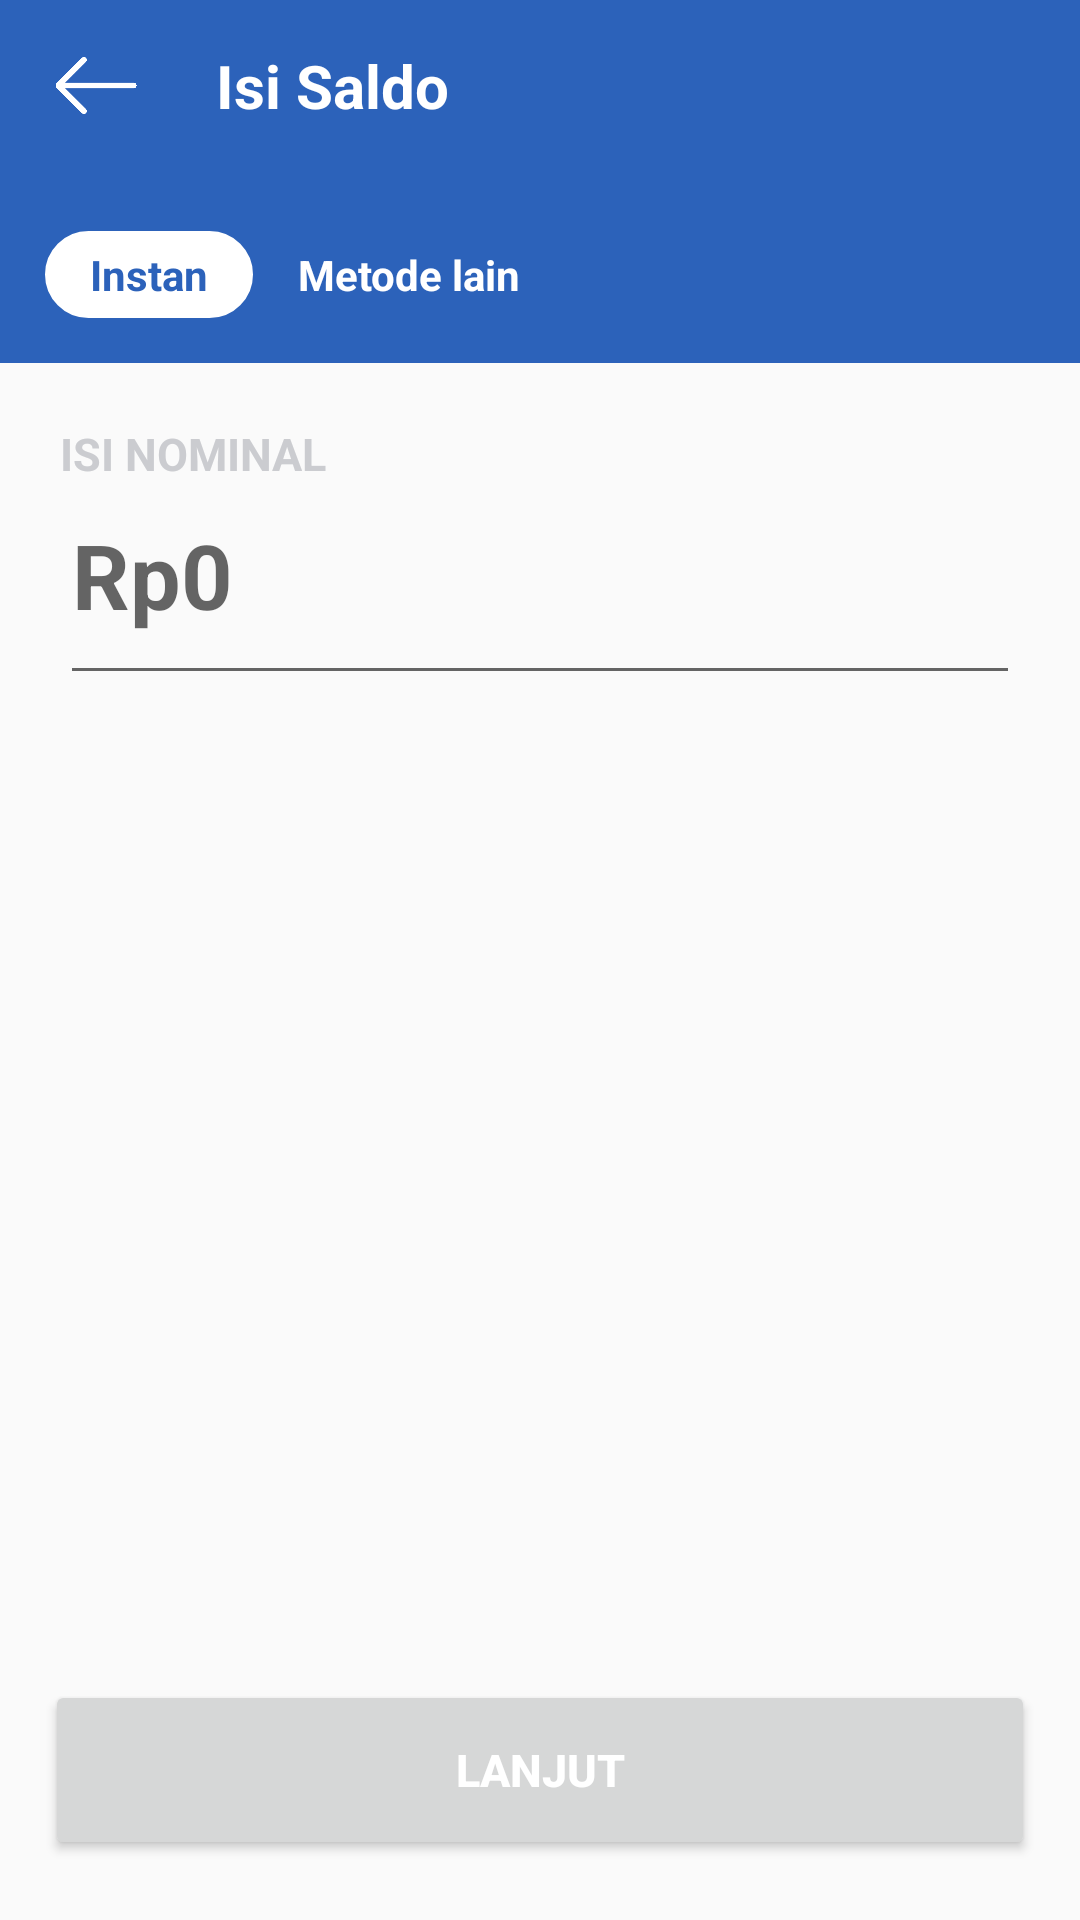

Point at icon controls on the screen. Image size 1080×1920, points as (x,y).
leftarrow: (96,85)
